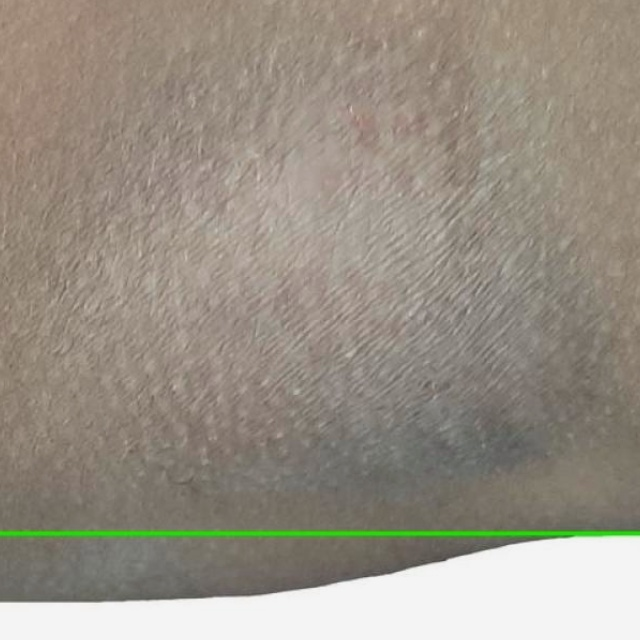Atopic Dermatitis: (0, 533, 639, 639)
